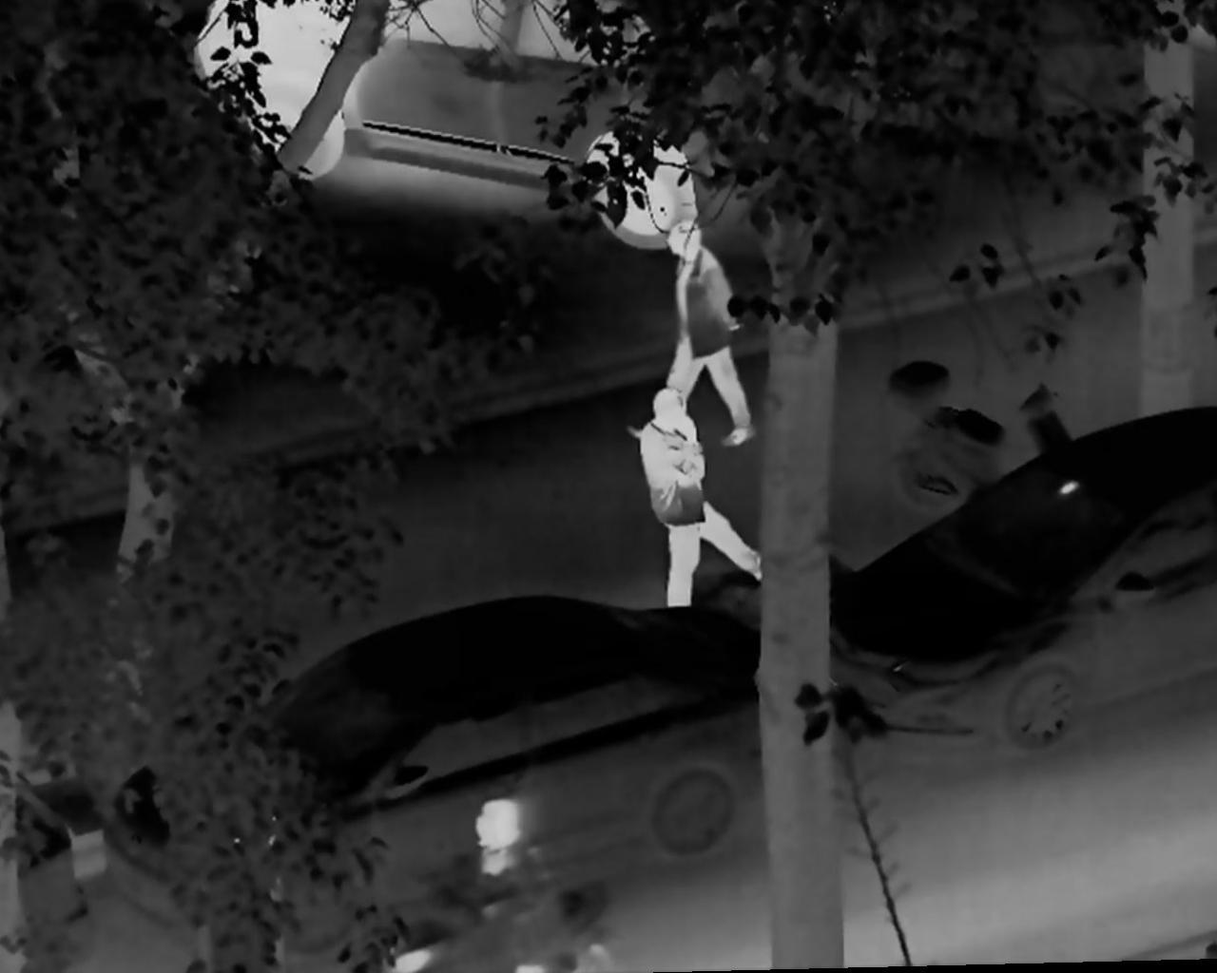person: (394, 789, 576, 973), (632, 387, 770, 611), (631, 221, 761, 451)
